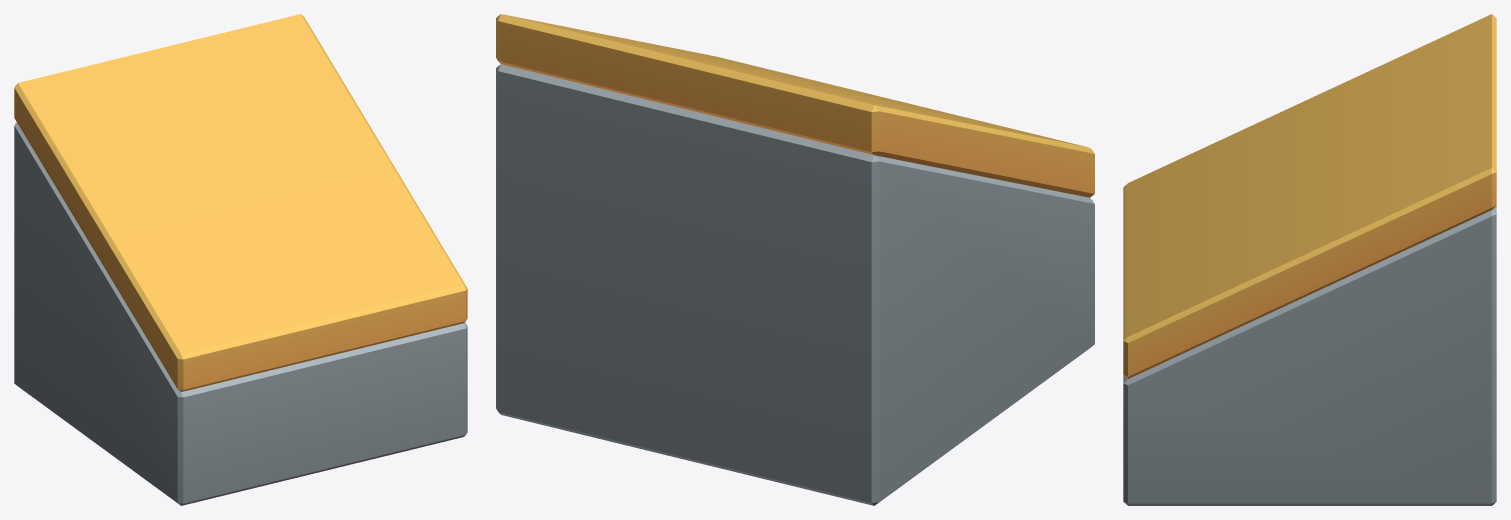
File: platform_slope_4x4x4_yellow.glb
3 renders of one model, left to right at view 1: azimuth 30°, elevation 25°; view 2: azimuth 150°, elevation 25°; view 3: azimuth 270°, elevation 25°, orthographic. The views are drawn at different scales.
Visible parts, largest first — view 1: platform_slope_4x4x4_yellow; view 2: platform_slope_4x4x4_yellow; view 3: platform_slope_4x4x4_yellow.
Boxes of the visible parts, bbox=[...] form: platform_slope_4x4x4_yellow: bbox=[14, 14, 467, 505]; platform_slope_4x4x4_yellow: bbox=[496, 14, 1094, 505]; platform_slope_4x4x4_yellow: bbox=[1123, 14, 1496, 505].
Size of the model in its own units: 4 by 4 by 4.
1 material, 1 textured.
